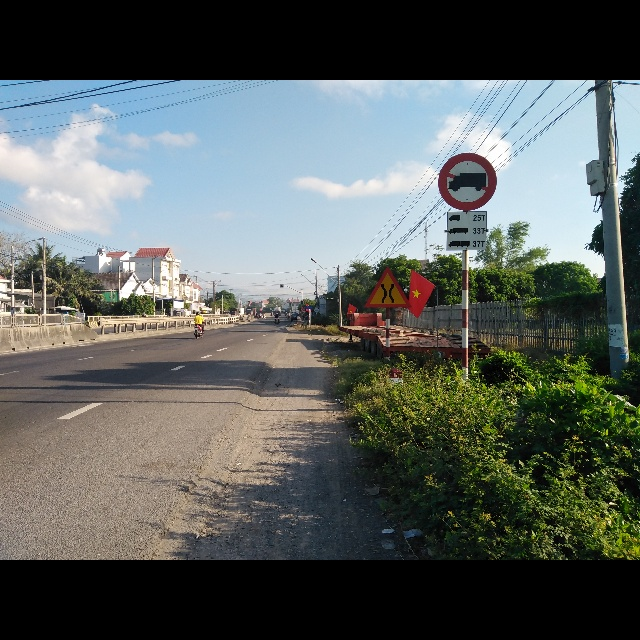Cấm xe tải: (437, 151, 498, 210)
Cầu hẹp: (364, 269, 408, 310)
